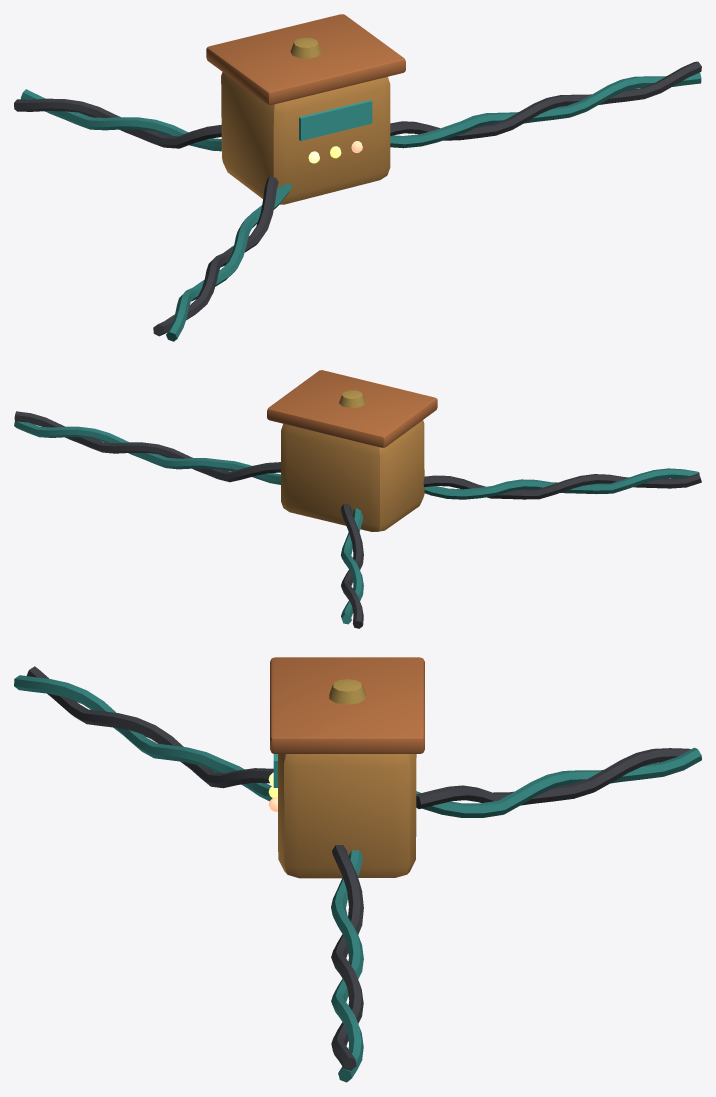
File: deco_cable_bundle_junction.fbx
The picture shows the model from 3 angles, top to bottom: view 1: azimuth 30°, elevation 25°; view 2: azimuth 150°, elevation 25°; view 3: azimuth 270°, elevation 25°; orthographic projection. The views are drawn at different scales.
Visible parts, largest first — view 1: CableBundle_Junction_Box, CableBundle_Junction_Cables, CableBundle_Junction_Lid; view 2: CableBundle_Junction_Cables, CableBundle_Junction_Box, CableBundle_Junction_Lid; view 3: CableBundle_Junction_Cables, CableBundle_Junction_Box, CableBundle_Junction_Lid.
Boxes of the visible parts, x1=… form: CableBundle_Junction_Box: x1=221, y1=72, x2=390, y2=204; CableBundle_Junction_Cables: x1=14, y1=61, x2=701, y2=341; CableBundle_Junction_Lid: x1=206, y1=14, x2=405, y2=104; CableBundle_Junction_Cables: x1=14, y1=411, x2=701, y2=628; CableBundle_Junction_Box: x1=281, y1=420, x2=424, y2=531; CableBundle_Junction_Lid: x1=267, y1=370, x2=437, y2=447; CableBundle_Junction_Cables: x1=14, y1=666, x2=701, y2=1082; CableBundle_Junction_Box: x1=273, y1=754, x2=416, y2=878; CableBundle_Junction_Lid: x1=270, y1=657, x2=424, y2=753.
Bounding box in the file's own units: 378 × 73.52 × 275.
